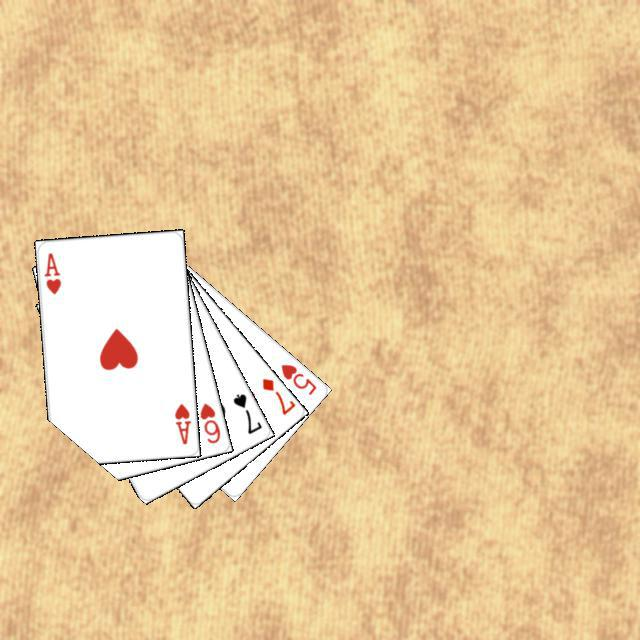5h: (276, 359, 318, 397)
6h: (195, 398, 222, 445)
7d: (257, 373, 296, 417)
7s: (228, 389, 263, 436)
Ah: (39, 248, 63, 296), (170, 399, 192, 446)
